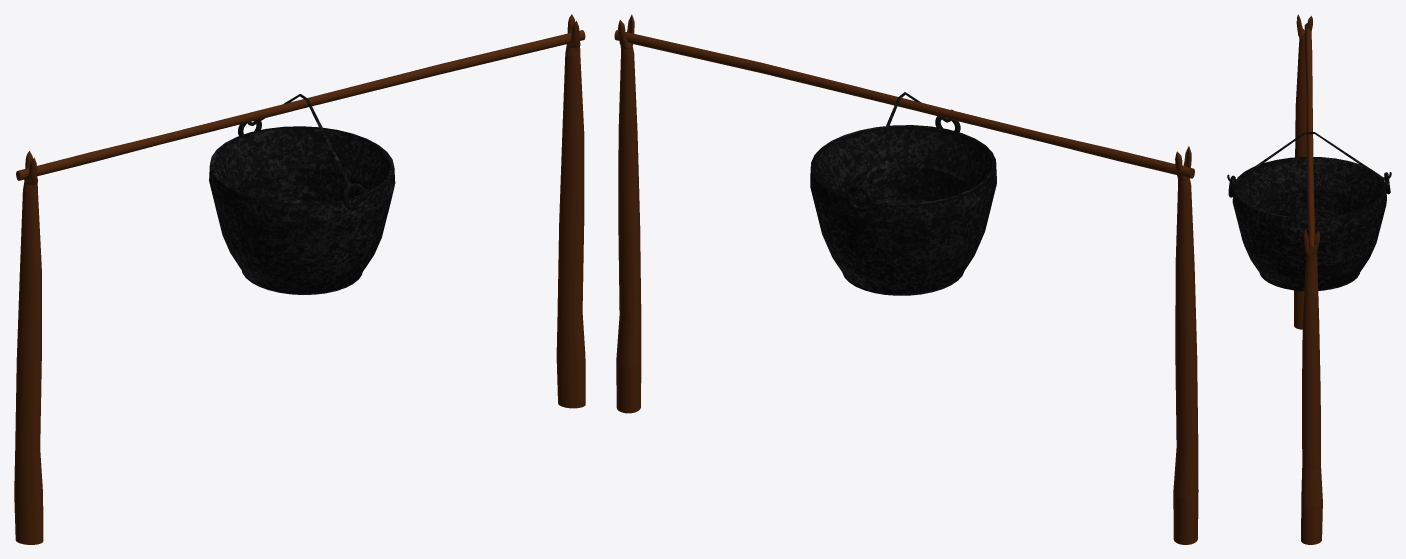
The model's file is caldeirao.glb.
3 renders of one model, left to right at view 1: azimuth 30°, elevation 25°; view 2: azimuth 150°, elevation 25°; view 3: azimuth 270°, elevation 25°, orthographic. The views are drawn at different scales.
Visible parts, largest first — view 1: pot_IronRod_0, holder_2_LogWood003_0; view 2: pot_IronRod_0, holder_2_LogWood003_0; view 3: pot_IronRod_0, holder_2_LogWood003_0.
Part boxes in pixels (left/top/right/bottom): pot_IronRod_0: left=209, top=94, right=395, bottom=294; holder_2_LogWood003_0: left=14, top=14, right=585, bottom=544; pot_IronRod_0: left=810, top=92, right=996, bottom=295; holder_2_LogWood003_0: left=614, top=14, right=1198, bottom=544; pot_IronRod_0: left=1227, top=132, right=1391, bottom=291; holder_2_LogWood003_0: left=1294, top=14, right=1322, bottom=544.
Bounding box in the file's own units: 30.37 × 19.66 × 9.4.
Materials: 2 (1 with a texture image).
